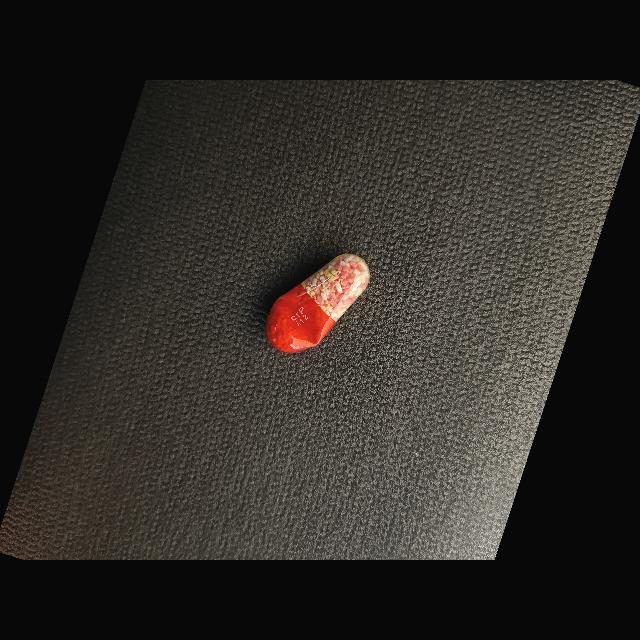Defective Capsule: (266, 254, 370, 353)
